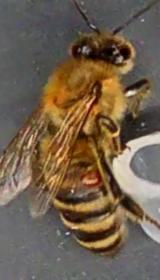varroa_mite: (70, 160, 110, 194)
